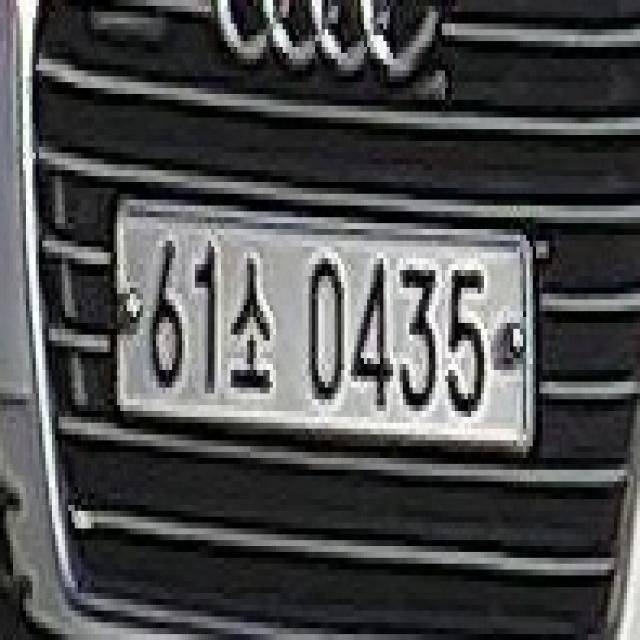0: (300, 247, 348, 402)
1: (190, 239, 223, 394)
3: (400, 245, 439, 408)
4: (352, 246, 396, 408)
5: (443, 245, 491, 424)
6: (144, 238, 186, 392)
license_plate: (107, 184, 547, 477)
so: (226, 238, 280, 398)
